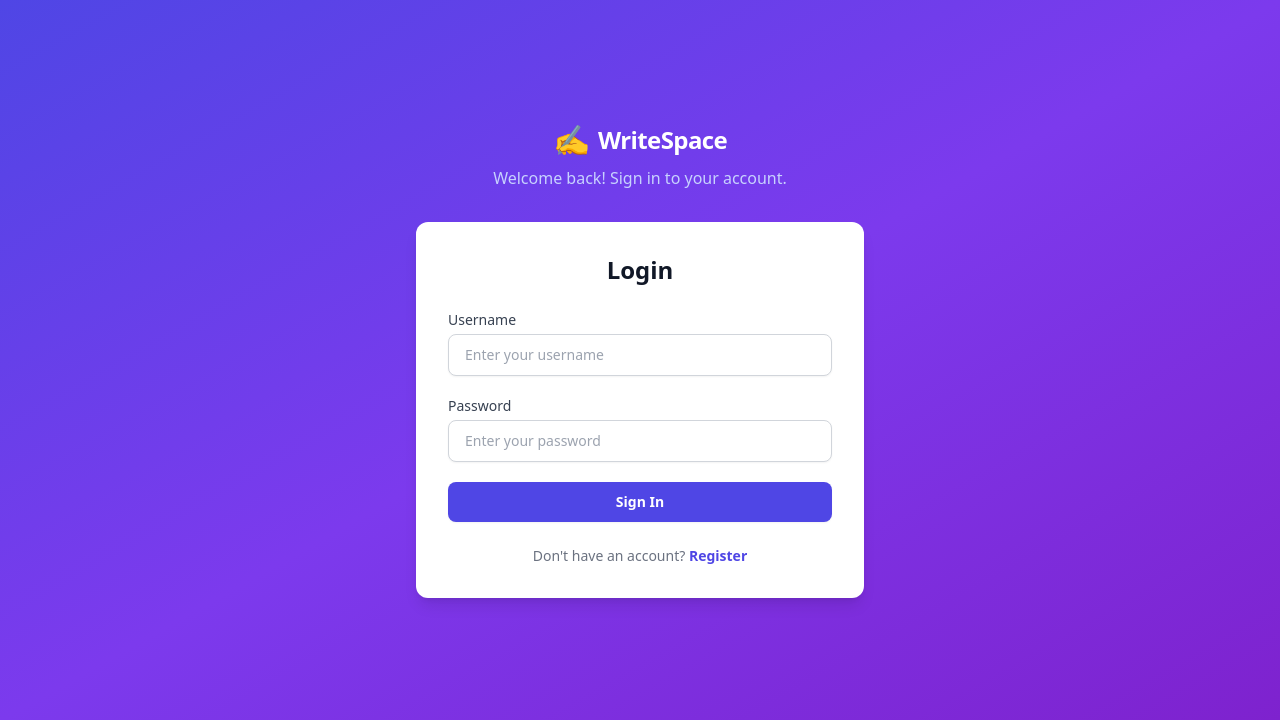
LoginPage › invalid credentials show error › shows error message for wrong admin password
Type "admin" into the field labelled "Username" at coordinates (640, 355), box x1=448 y1=334 x2=832 y2=376
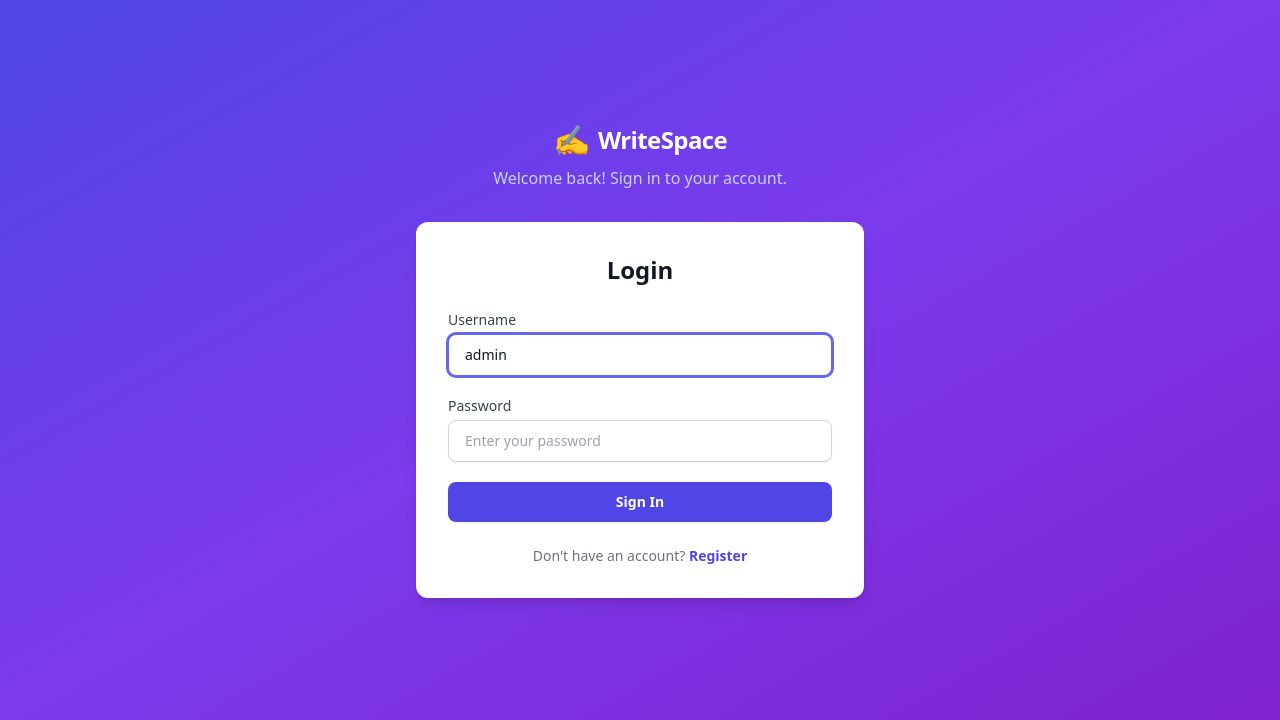
Type "wrongpassword" into the password field labelled "Password" at coordinates (640, 441), box x1=448 y1=420 x2=832 y2=462
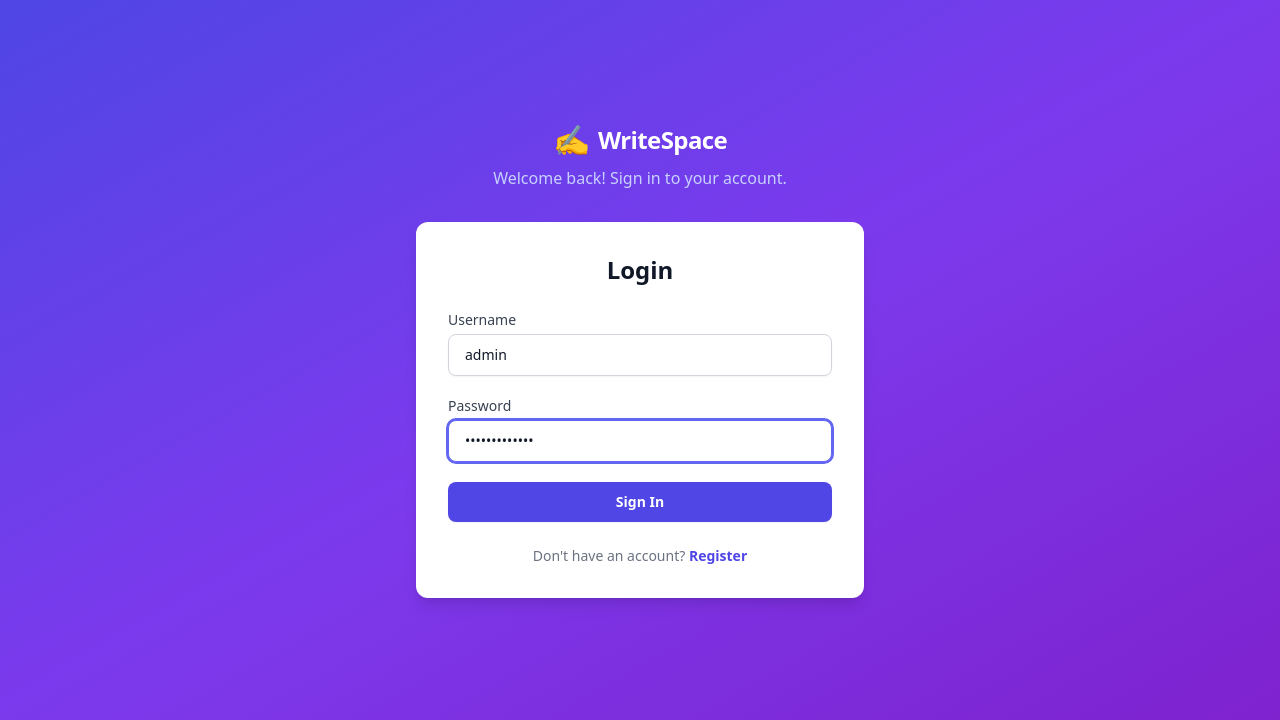
Click the button "Sign In" at coordinates (640, 502), box x1=448 y1=482 x2=832 y2=522
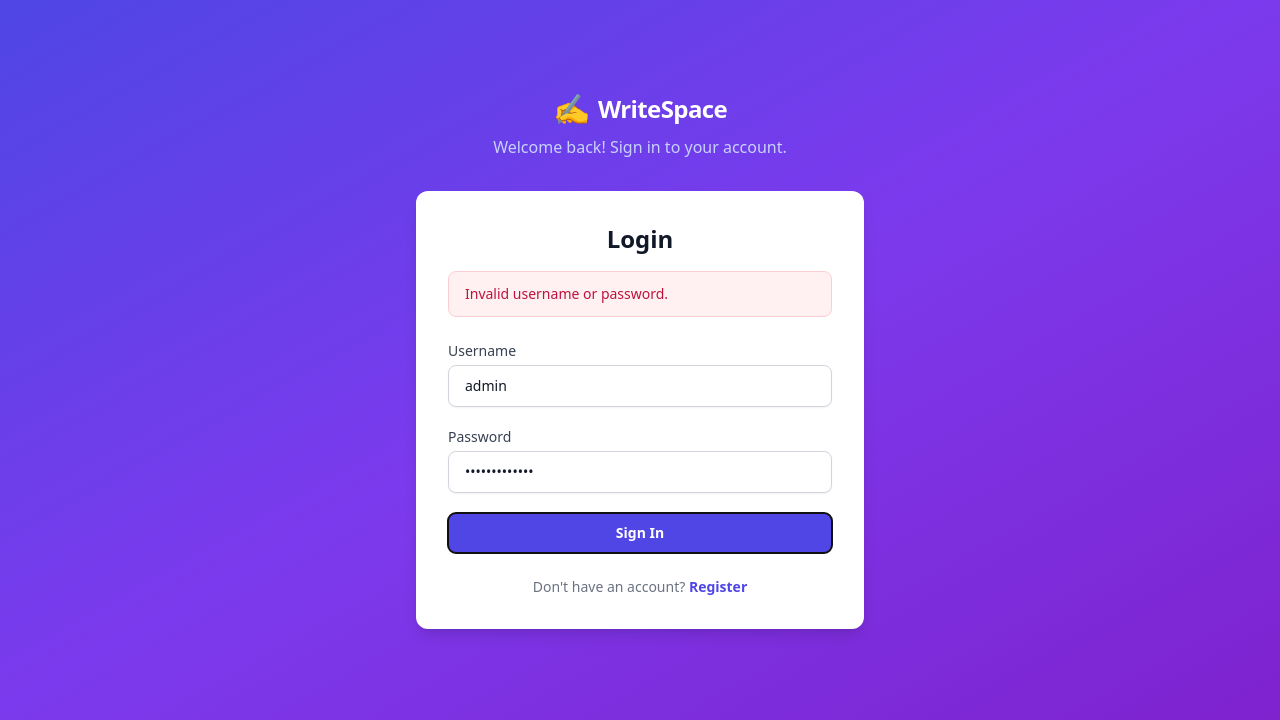
Check: the text "Invalid username or password." is shown, box x1=448 y1=271 x2=832 y2=317
